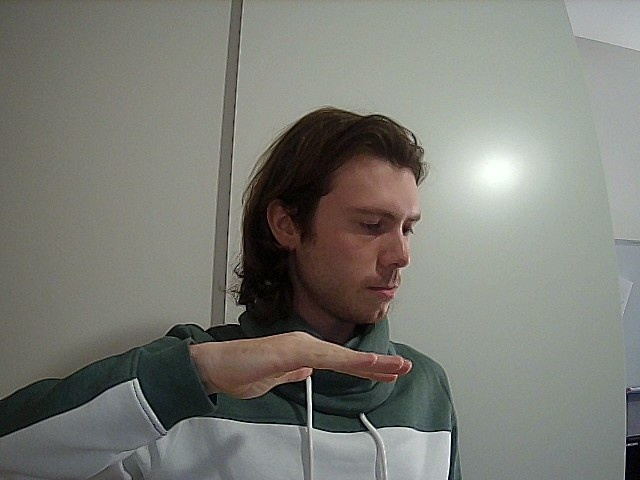space: (1, 313, 461, 465)
